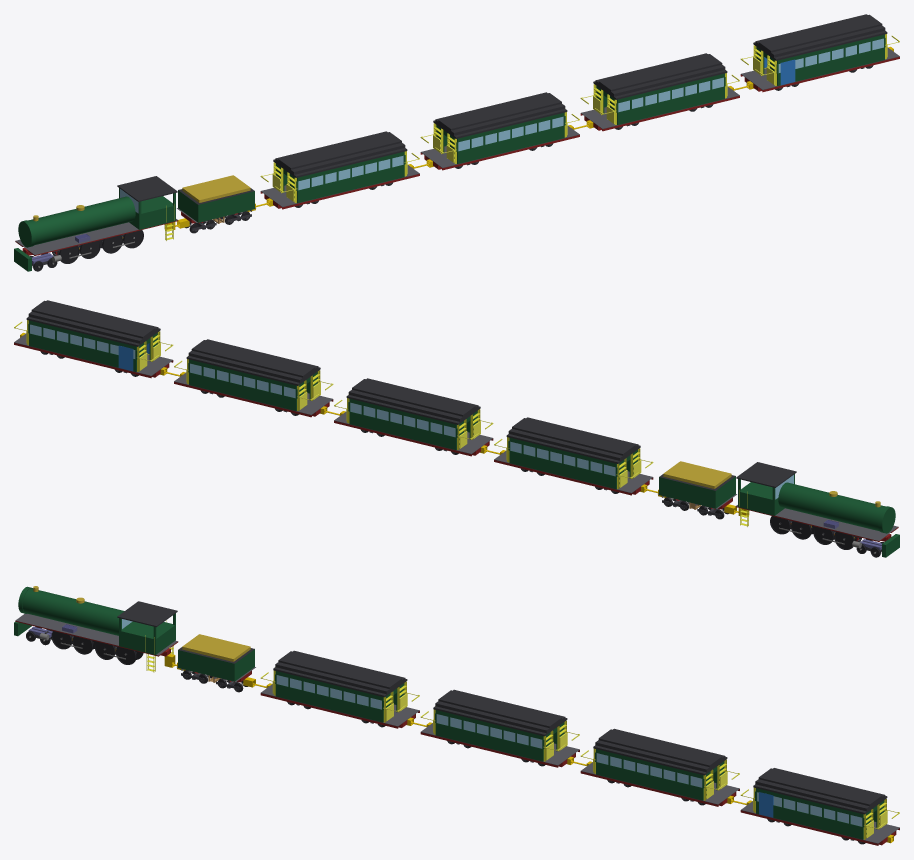
File: PF-A000_train_assembly.glb
The picture shows the model from 3 angles, top to bottom: view 1: azimuth 30°, elevation 25°; view 2: azimuth 150°, elevation 25°; view 3: azimuth 330°, elevation 25°; orthographic projection.
Visible parts, largest first — view 1: 141 roof clerestory (×4), 114 side wall lower (HSS2x2x1-8 frame + skin) (×4), 140 roof crown (×4), 205 boiler-style hood shell 3 mm (cosmetic, removable), 094 floor 1 in composite panel (×4), 139 roof eave (×4), 029 running board - deck PL6 tread plate (top Z1,605, LT11), 143 tender side skin 10 ga (3.4 mm) on posts @500 + 50 mm li, 209 cab lower walls 3 mm on HSS2x2x1-8, 215 cab roof 3 mm skin on HSS3x2x1-8 purlins @600 (3 in deep, 185 coal-effect cover top 1.5 mm (16 ga) formed steel, remov; view 2: 141 roof clerestory (×4), 095 side wall lower (HSS2x2x1-8 frame + skin) (×4), 140 roof crown (×4), 205 boiler-style hood shell 3 mm (cosmetic, removable), 094 floor 1 in composite panel (×4), 139 roof eave (×4), 029 running board - deck PL6 tread plate (top Z1,605, LT11), 142 tender side skin 10 ga (3.4 mm) on posts @500 + 50 mm li, 209 cab lower walls 3 mm on HSS2x2x1-8, 215 cab roof 3 mm skin on HSS3x2x1-8 purlins @600 (3 in deep, 185 coal-effect cover top 1.5 mm (16 ga) formed steel, remov; view 3: 141 roof clerestory (×4), 114 side wall lower (HSS2x2x1-8 frame + skin) (×4), 140 roof crown (×4), 205 boiler-style hood shell 3 mm (cosmetic, removable), 094 floor 1 in composite panel (×4), 139 roof eave (×4), 209 cab lower walls 3 mm on HSS2x2x1-8, 143 tender side skin 10 ga (3.4 mm) on posts @500 + 50 mm li, 029 running board - deck PL6 tread plate (top Z1,605, LT11), 215 cab roof 3 mm skin on HSS3x2x1-8 purlins @600 (3 in deep, 185 coal-effect cover top 1.5 mm (16 ga) formed steel, remov.
Part boxes in pixels (box(x1,y1,x2,y2)): 141 roof clerestory (×4): box(278, 14, 882, 169); 114 side wall lower (HSS2x2x1-8 frame + skin) (×4): box(297, 47, 884, 203); 140 roof crown (×4): box(275, 14, 885, 174); 205 boiler-style hood shell 3 mm (cosmetic, removable): box(28, 196, 135, 245); 094 floor 1 in composite panel (×4): box(260, 47, 899, 207); 139 roof eave (×4): box(273, 30, 887, 177); 029 running board - deck PL6 tread plate (top Z1,605, LT11): box(15, 219, 177, 254); 143 tender side skin 10 ga (3.4 mm) on posts @500 + 50 mm li: box(198, 191, 254, 222); 209 cab lower walls 3 mm on HSS2x2x1-8: box(129, 196, 175, 229); 215 cab roof 3 mm skin on HSS3x2x1-8 purlins @600 (3 in deep: box(117, 176, 177, 201); 185 coal-effect cover top 1.5 mm (16 ga) formed steel, remov: box(182, 175, 250, 200); 141 roof clerestory (×4): box(31, 300, 635, 455); 095 side wall lower (HSS2x2x1-8 frame + skin) (×4): box(29, 333, 616, 489); 140 roof crown (×4): box(28, 300, 638, 460); 205 boiler-style hood shell 3 mm (cosmetic, removable): box(778, 482, 885, 531); 094 floor 1 in composite panel (×4): box(14, 333, 653, 493); 139 roof eave (×4): box(26, 316, 640, 463); 029 running board - deck PL6 tread plate (top Z1,605, LT11): box(736, 505, 898, 540); 142 tender side skin 10 ga (3.4 mm) on posts @500 + 50 mm li: box(659, 477, 715, 508); 209 cab lower walls 3 mm on HSS2x2x1-8: box(738, 482, 784, 515); 215 cab roof 3 mm skin on HSS3x2x1-8 purlins @600 (3 in deep: box(736, 462, 796, 487); 185 coal-effect cover top 1.5 mm (16 ga) formed steel, remov: box(663, 461, 731, 486); 141 roof clerestory (×4): box(278, 651, 882, 806); 114 side wall lower (HSS2x2x1-8 frame + skin) (×4): box(275, 684, 863, 839); 140 roof crown (×4): box(275, 650, 885, 811); 205 boiler-style hood shell 3 mm (cosmetic, removable): box(22, 588, 124, 635); 094 floor 1 in composite panel (×4): box(261, 684, 899, 843); 139 roof eave (×4): box(273, 667, 887, 814); 209 cab lower walls 3 mm on HSS2x2x1-8: box(119, 621, 175, 654); 143 tender side skin 10 ga (3.4 mm) on posts @500 + 50 mm li: box(178, 650, 234, 681); 029 running board - deck PL6 tread plate (top Z1,605, LT11): box(15, 614, 177, 655); 215 cab roof 3 mm skin on HSS3x2x1-8 purlins @600 (3 in deep: box(117, 601, 177, 627); 185 coal-effect cover top 1.5 mm (16 ga) formed steel, remov: box(182, 634, 250, 658).
Size of the model in its own units: 64432 by 3725 by 2914.
